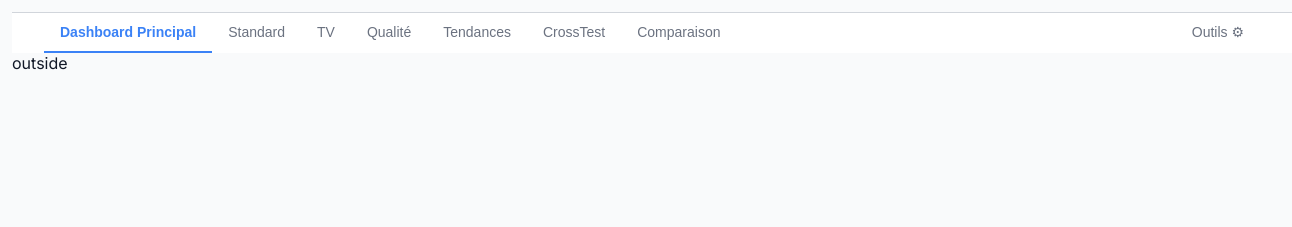
TabBar › click extérieur → sous-menu fermé
Step 1. Click the button "Outils ⚙" → (1218, 33), box [1176,13,1260,53]
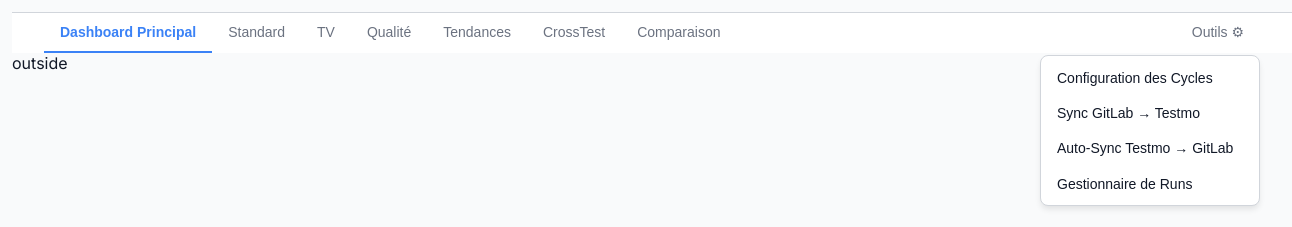
expect the button "Configuration des Cycles" is shown: met, box [1041,60,1259,96]
Step 2. Press the mouse on the text with test id "outside" → (40, 63), box [12,53,68,73]
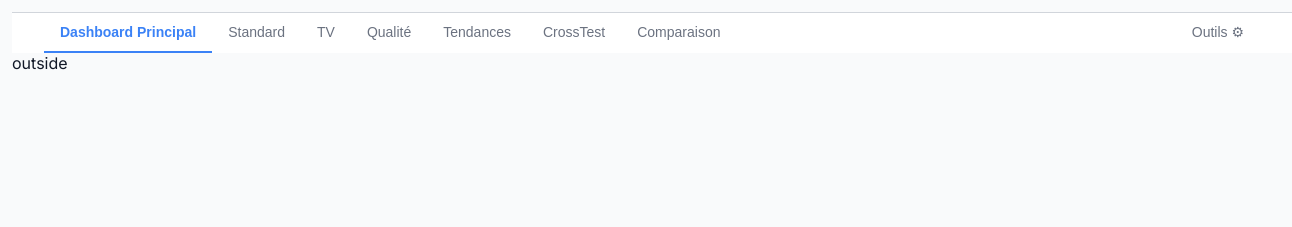
expect the button "Configuration des Cycles" is gone: met
